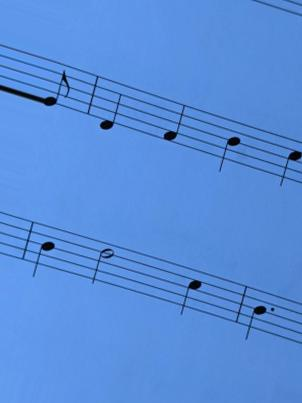note: (215, 108, 247, 176), (175, 258, 204, 319), (30, 216, 57, 279), (275, 129, 302, 190), (161, 94, 186, 158), (96, 72, 121, 136), (241, 282, 267, 342)
